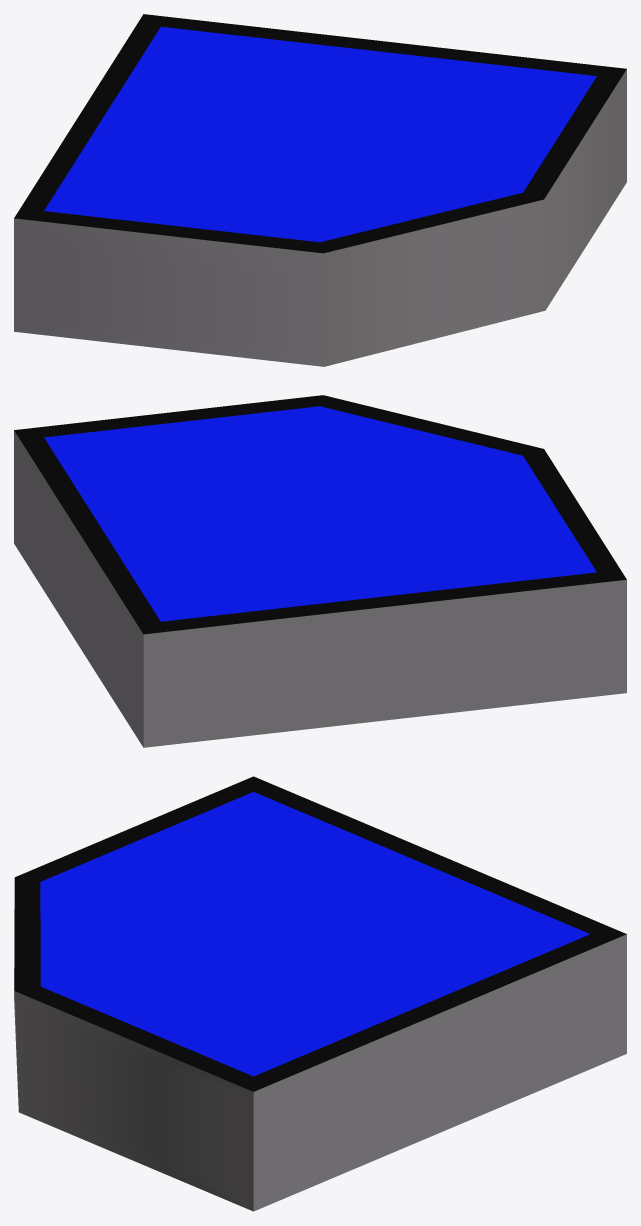
The model's file is Cutoff_Cube.fbx.
The picture shows the model from 3 angles, top to bottom: view 1: azimuth 30°, elevation 25°; view 2: azimuth 150°, elevation 25°; view 3: azimuth 270°, elevation 25°; orthographic projection. The views are drawn at different scales.
Parts seen in each view (by area): view 1: Cutoff_Cube; view 2: Cutoff_Cube; view 3: Cutoff_Cube.
Boxes of the visible parts, x1,y1,x2,y2 form: Cutoff_Cube: [14, 14, 626, 366]; Cutoff_Cube: [14, 395, 626, 747]; Cutoff_Cube: [14, 776, 626, 1211].
Size of the model in its own units: 28.28 by 5 by 23.22.
1 material, 1 textured.
